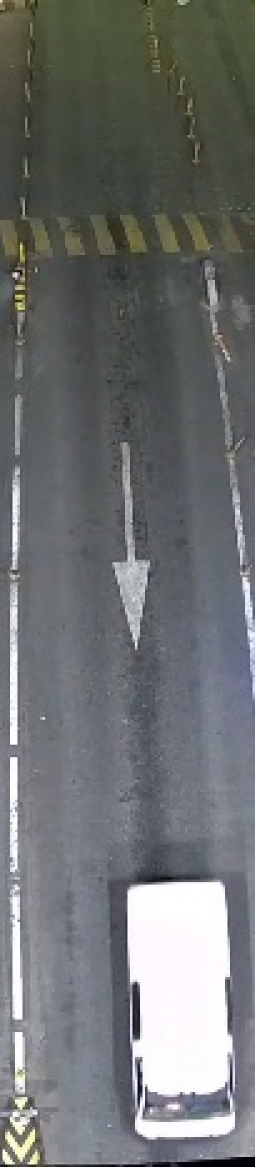car: (116, 866, 244, 1146)
